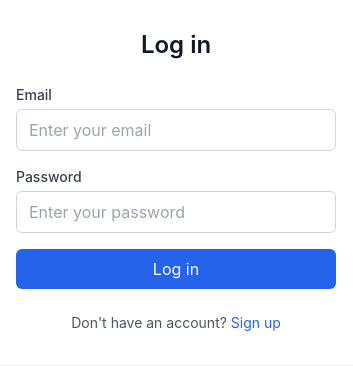
it: Login › shows validation error when password is empty
The width and height of the screenshot is (353, 366).
Type "test@example.com" into the field labelled "Email". click: (176, 130)
box: [16,109,336,151]
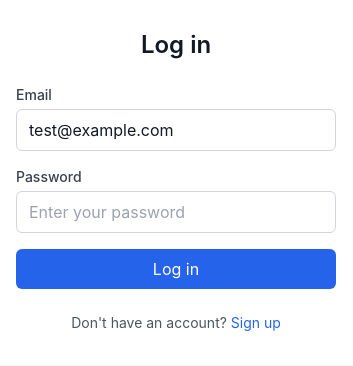
Click the button "Log in". click: (176, 269)
box: [16,249,336,289]
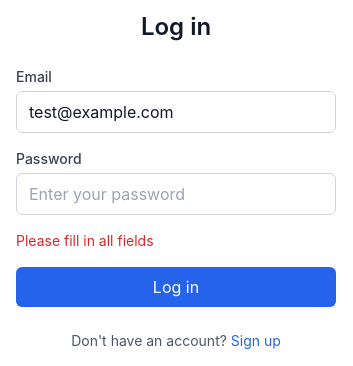
Check: the text "Please fill in all fields" is shown, box [16,232,154,249]
